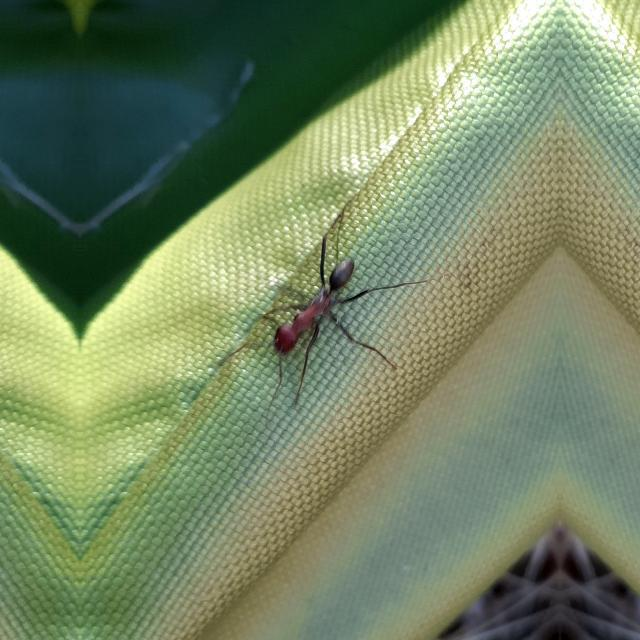Cataglyphis: (244, 230, 376, 394)
